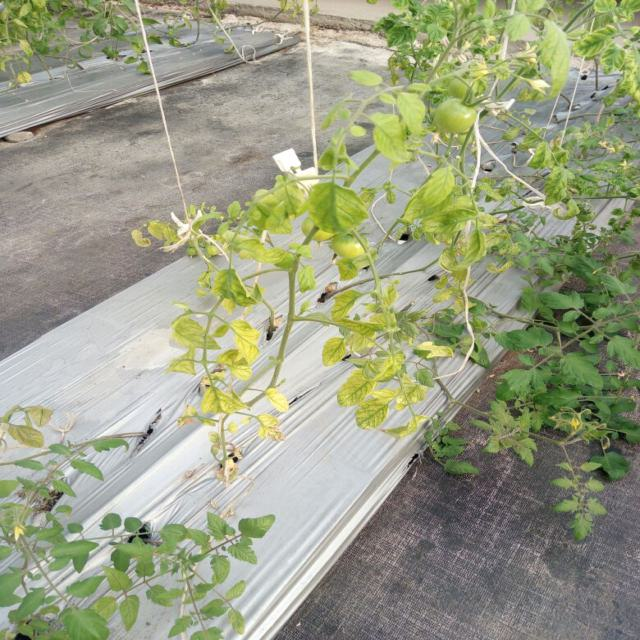Leaf_Mold: (392, 163, 476, 239), (243, 177, 305, 234), (305, 181, 366, 238), (211, 268, 262, 311), (367, 112, 409, 162), (166, 315, 223, 350), (325, 283, 366, 323), (231, 238, 288, 265), (335, 371, 376, 408), (459, 227, 490, 273), (128, 219, 174, 249), (343, 317, 381, 353), (205, 386, 249, 415), (329, 250, 372, 279), (359, 391, 394, 426), (394, 377, 427, 412), (366, 350, 403, 381), (388, 415, 429, 442), (233, 321, 261, 359), (318, 333, 348, 366), (370, 282, 400, 314), (221, 351, 254, 378), (164, 350, 198, 375), (415, 336, 452, 358), (259, 412, 286, 442), (433, 274, 459, 302), (294, 263, 317, 291), (264, 387, 290, 410), (439, 248, 456, 273)
